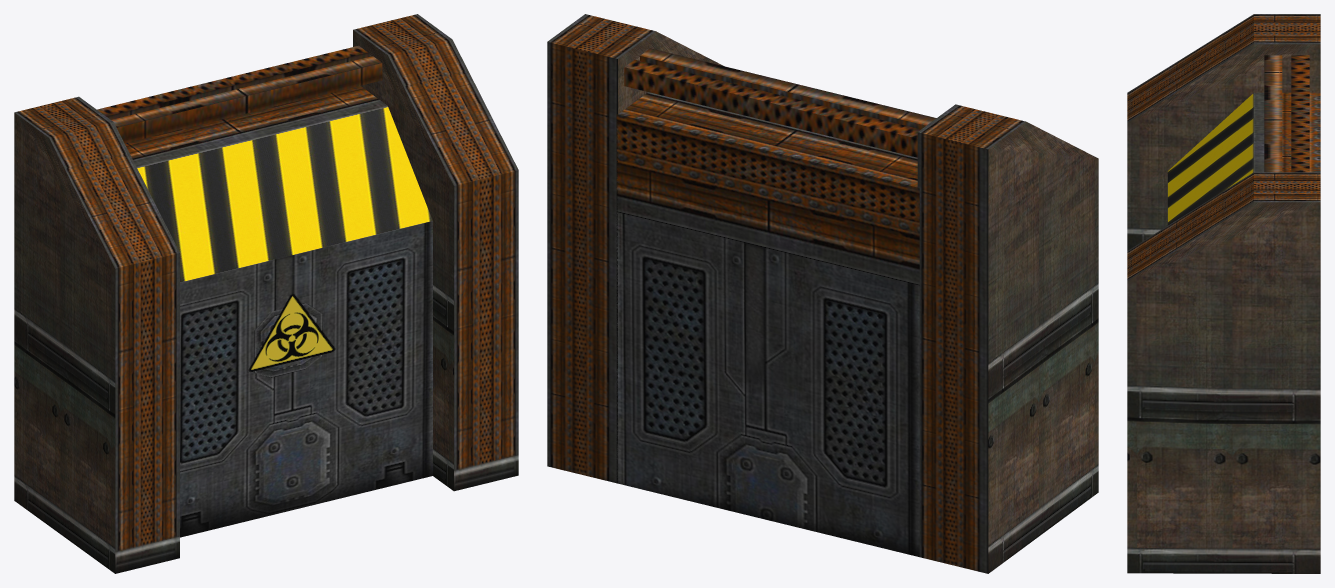
Rendered from stop.FBX.
The picture shows the model from 3 angles, left to right: view 1: azimuth 30°, elevation 25°; view 2: azimuth 150°, elevation 25°; view 3: azimuth 270°, elevation 25°; orthographic projection. The views are drawn at different scales.
Visible parts, largest first — view 1: stop; view 2: stop; view 3: stop.
Boxes of the visible parts, x1=… form: stop: x1=14, y1=14, x2=518, y2=573; stop: x1=547, y1=14, x2=1098, y2=573; stop: x1=1127, y1=14, x2=1320, y2=573.
Bounding box in the file's own units: 163 × 150 × 70.83.
1 material, 1 textured.
